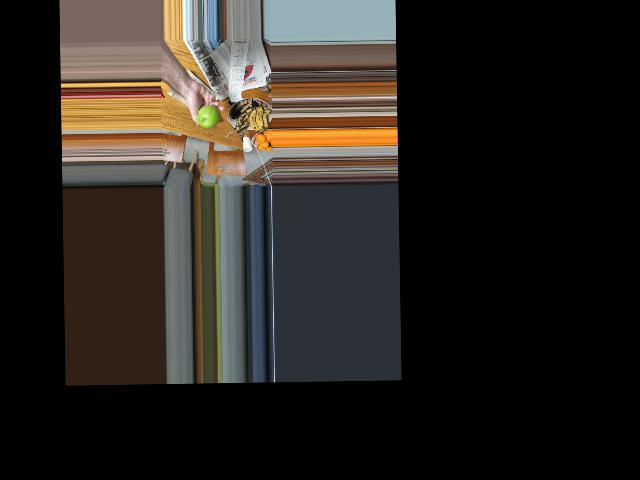apple: (196, 104, 220, 128)
